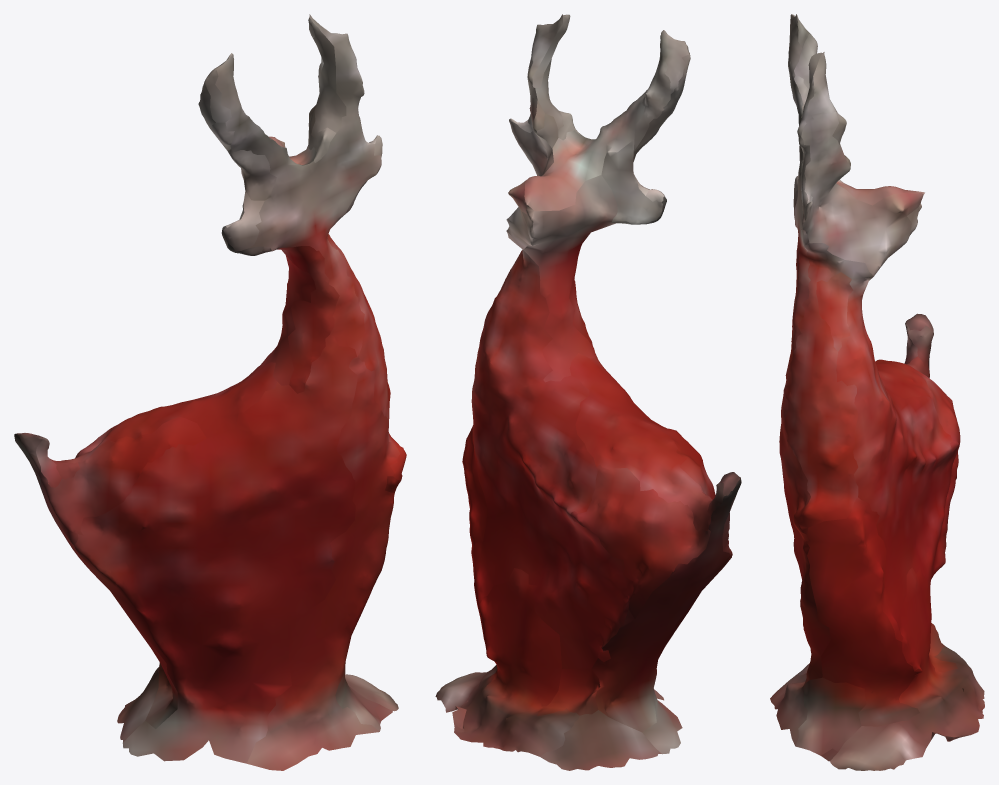
Rendered from deer.glb.
The picture shows the model from 3 angles, left to right: view 1: azimuth 30°, elevation 25°; view 2: azimuth 150°, elevation 25°; view 3: azimuth 270°, elevation 25°; orthographic projection. The views are drawn at different scales.
Parts seen in each view (by area): view 1: mesh; view 2: mesh; view 3: mesh.
Part boxes in pixels (x1,y1,x2,y2): mesh: (14,14,406,770); mesh: (435,14,741,770); mesh: (770,14,984,770).
Bounding box in the file's own units: 0.083 × 0.1671 × 0.0483.
Materials: 1 (1 with a texture image).
